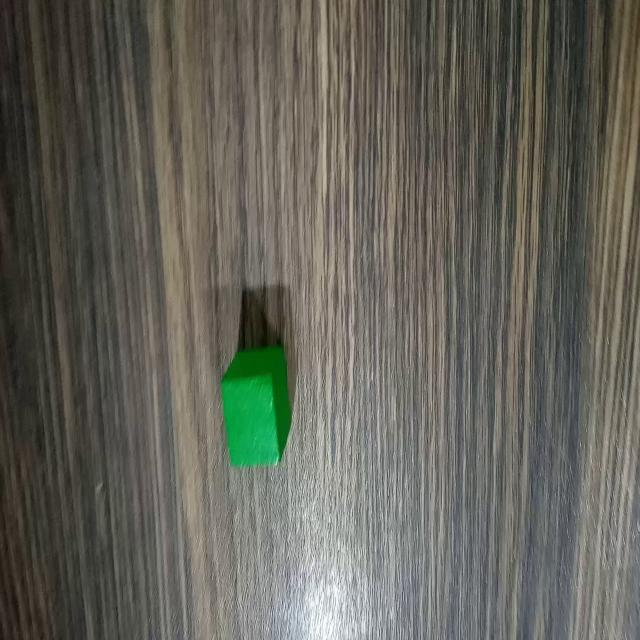cube: (216, 340, 295, 474)
